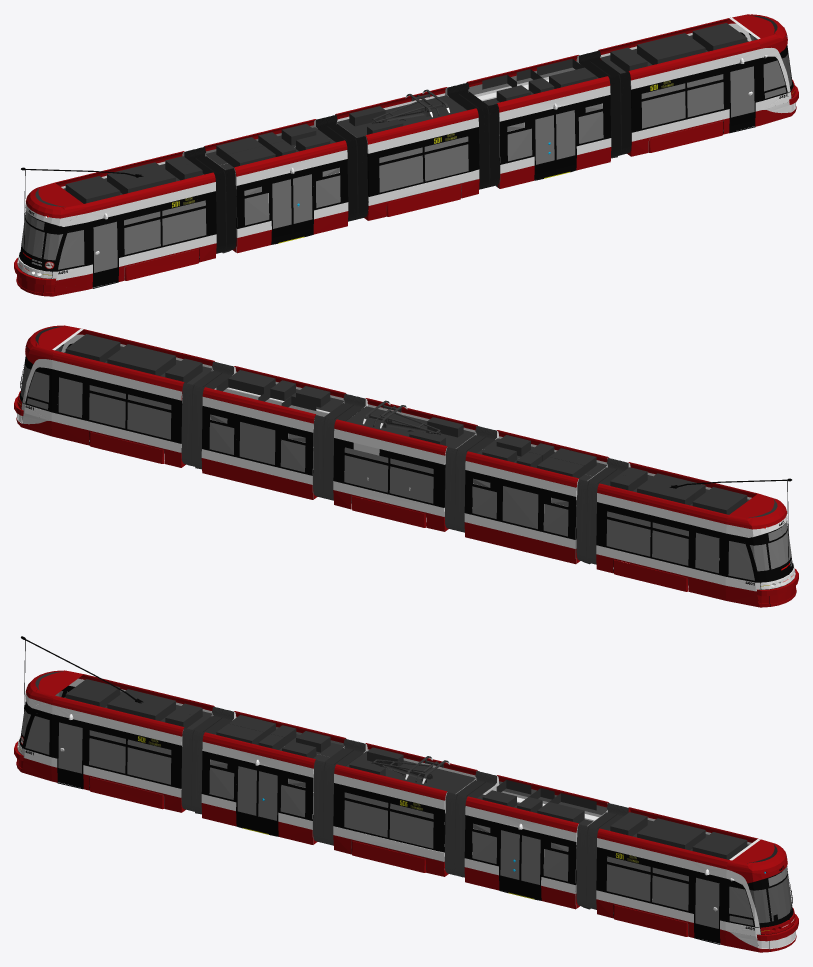
Rendered from streetcar.glb.
3 views of the same model, one above another, from view 1: azimuth 30°, elevation 25°; view 2: azimuth 150°, elevation 25°; view 3: azimuth 330°, elevation 25° (orthographic).
Parts seen in each view (by area): view 1: _C-1.5 chair (Loose Mesh); view 2: _C-1.5 chair (Loose Mesh); view 3: _C-1.5 chair (Loose Mesh).
Part boxes in pixels (x1,y1,x2,y2): _C-1.5 chair (Loose Mesh): (14, 14, 798, 296); _C-1.5 chair (Loose Mesh): (14, 325, 798, 607); _C-1.5 chair (Loose Mesh): (14, 636, 798, 952).
Size of the model in its own units: 31.79 by 4.92 by 2.65.
4 materials, 4 textured.
